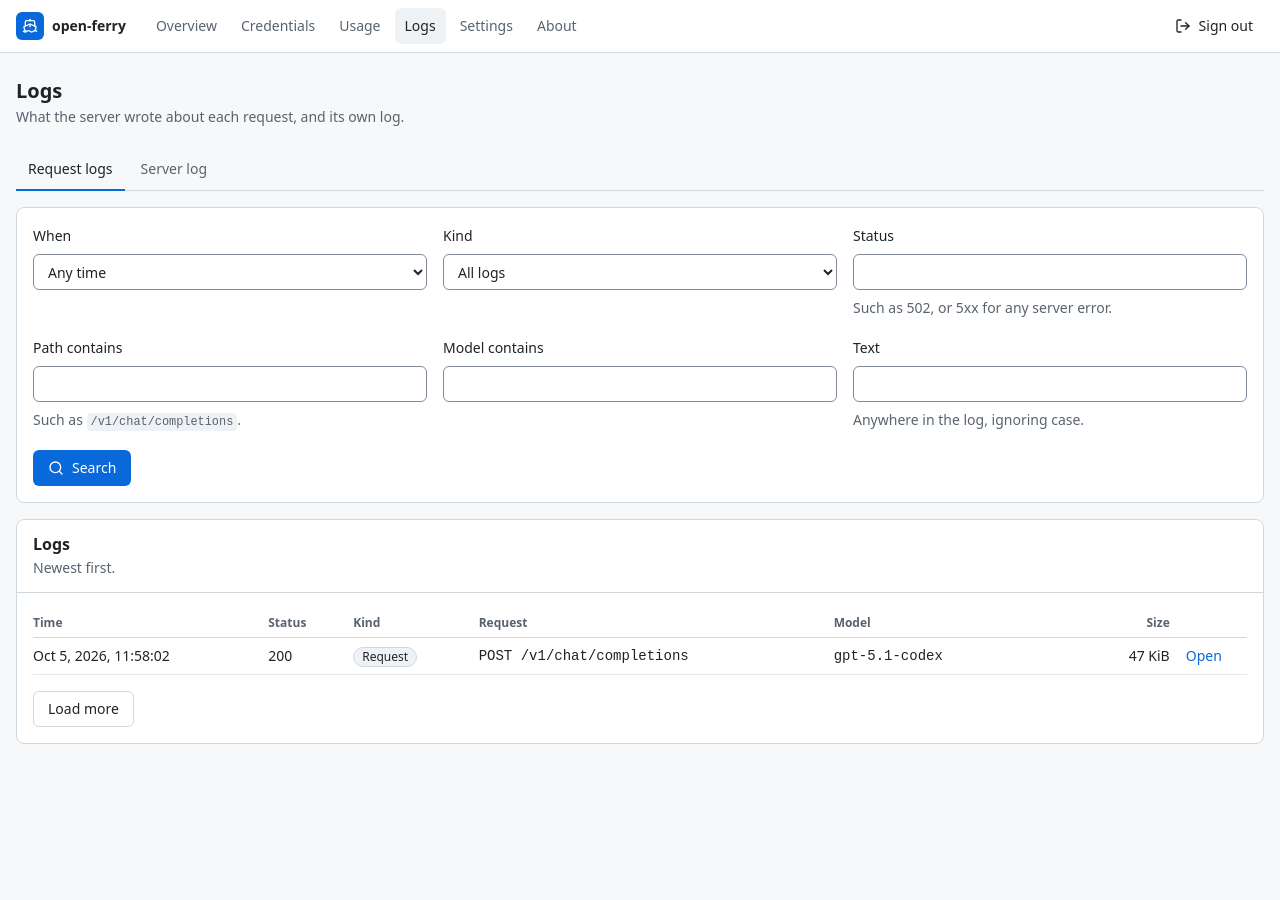
Test: the request log search › loads more with the cursor
Click the button "Load more". click: (83, 709)
box: [33,691,134,727]
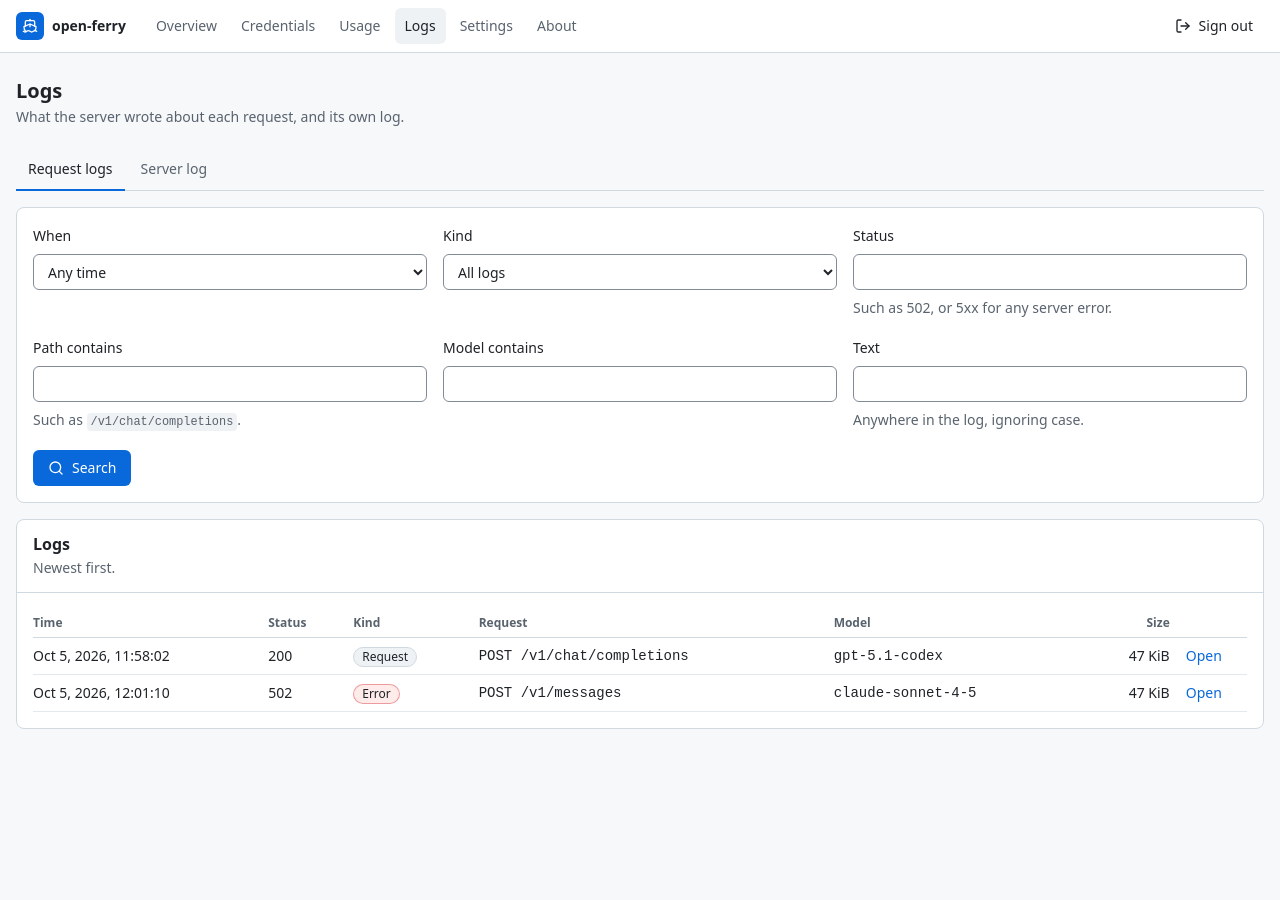
Result: the text "/v1/messages" is shown at [471,674,826,712]
